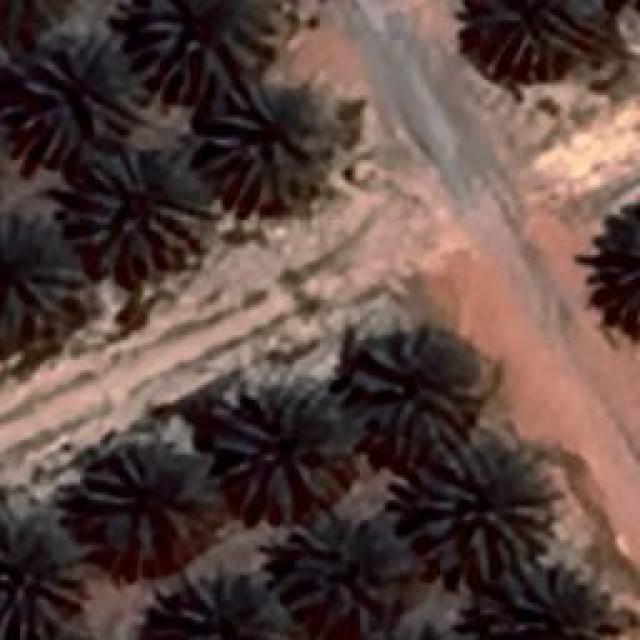PalmTree: (53, 153, 414, 629), (131, 22, 614, 274), (400, 435, 550, 580), (212, 382, 352, 520), (77, 437, 215, 575), (12, 30, 146, 160), (202, 90, 336, 220), (75, 147, 210, 275), (137, 0, 270, 102), (358, 335, 472, 445), (475, 557, 615, 640), (0, 520, 88, 638), (282, 510, 380, 615), (0, 208, 78, 320), (180, 568, 290, 638), (480, 0, 582, 70), (346, 624, 479, 640), (0, 0, 72, 24)
